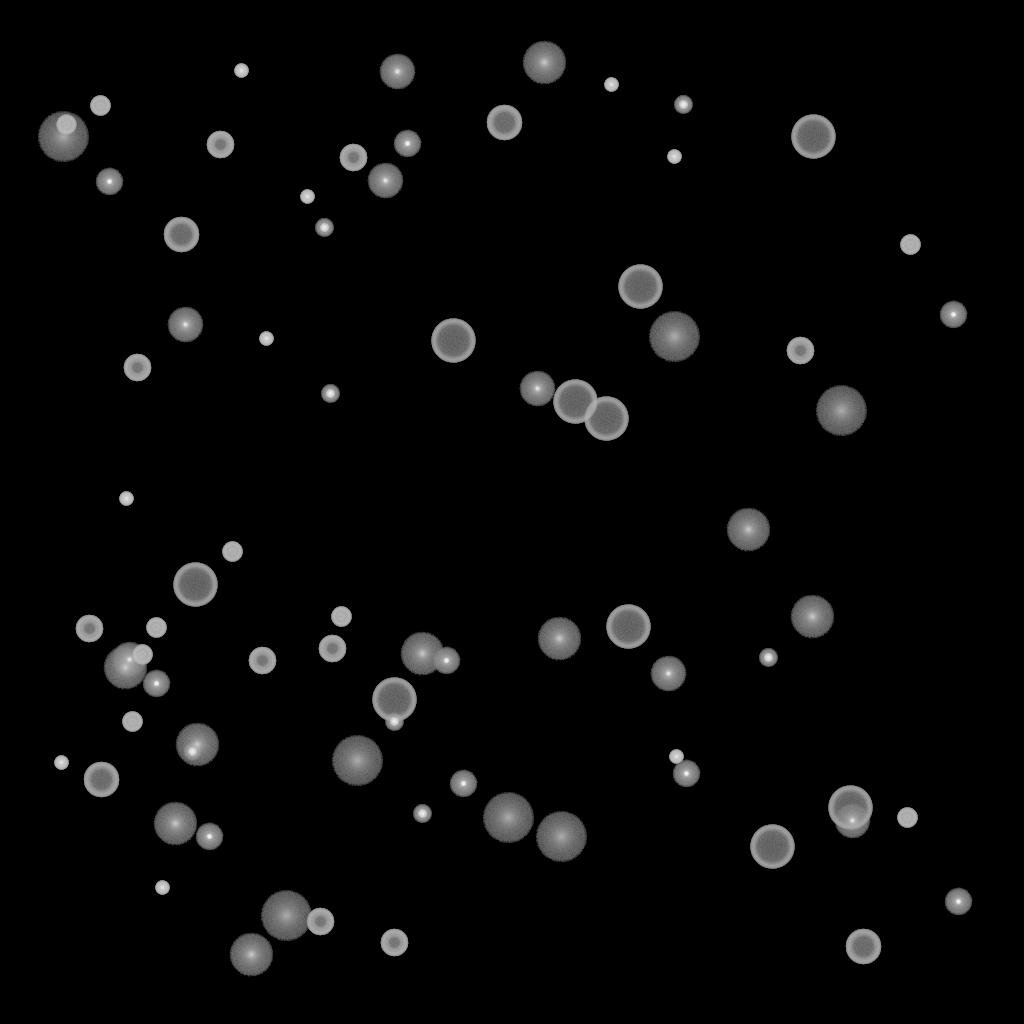depth:-10: (195, 823, 223, 851), (393, 130, 421, 158), (944, 888, 972, 916), (449, 770, 477, 798), (142, 670, 170, 698), (939, 301, 967, 329), (432, 647, 460, 675), (672, 760, 700, 788), (95, 168, 123, 196)
depth:-20: (413, 805, 431, 823), (759, 649, 777, 667), (321, 385, 339, 403), (385, 713, 403, 731), (183, 743, 201, 761), (315, 219, 333, 237), (674, 96, 692, 114)
depth:-30: (300, 190, 314, 204), (119, 492, 133, 506), (667, 150, 681, 164), (54, 756, 68, 770), (234, 64, 248, 78), (669, 750, 683, 764), (604, 78, 618, 92), (155, 881, 169, 895), (259, 332, 273, 346)
depth:-40: (122, 712, 142, 732), (897, 808, 917, 828), (146, 618, 166, 638), (331, 607, 351, 627), (222, 542, 242, 562), (900, 235, 920, 255), (132, 645, 152, 665), (56, 115, 76, 135), (90, 96, 110, 116)
depth:-50: (318, 635, 346, 663), (306, 908, 334, 936), (248, 647, 276, 675), (206, 131, 234, 159), (380, 929, 408, 957), (123, 354, 151, 382), (786, 337, 814, 365), (75, 615, 103, 643), (339, 144, 367, 172)
depth:-60: (486, 105, 522, 141), (845, 929, 881, 965), (163, 217, 199, 253), (83, 762, 119, 798)
depth:-70: (791, 115, 835, 159), (372, 678, 416, 722), (431, 319, 475, 363), (553, 380, 597, 424), (584, 397, 628, 441), (750, 825, 794, 869), (618, 265, 662, 309), (173, 563, 217, 607), (606, 605, 650, 649), (828, 786, 872, 830)
depth:0: (111, 642, 147, 678), (519, 371, 555, 407), (379, 54, 415, 90), (167, 307, 203, 343), (650, 656, 686, 692), (367, 163, 403, 199), (834, 803, 870, 839)
depth:10: (790, 595, 834, 639), (103, 646, 147, 690), (522, 41, 566, 85), (400, 632, 444, 676), (229, 933, 273, 977), (175, 723, 219, 767), (153, 802, 197, 846), (726, 508, 770, 552), (537, 617, 581, 661)
depth:20: (260, 891, 312, 941), (331, 736, 383, 786), (482, 793, 534, 843), (648, 312, 700, 362), (815, 386, 867, 436), (37, 112, 89, 162), (535, 812, 587, 862)
